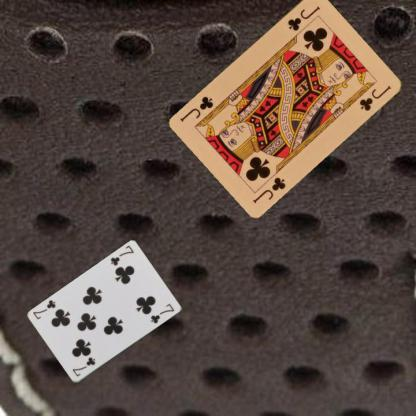7c: (108, 243, 134, 268), (70, 355, 96, 378)
Jc: (250, 174, 287, 204), (285, 3, 321, 32)
